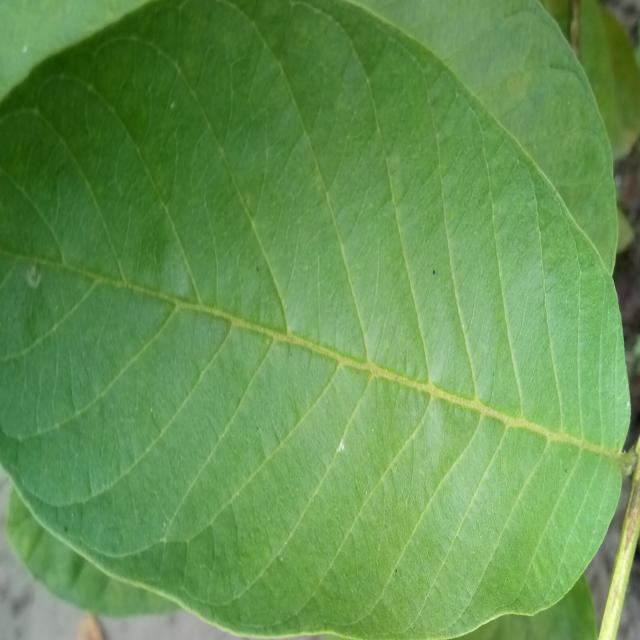Disease Free: (0, 2, 630, 636), (362, 0, 618, 274)
